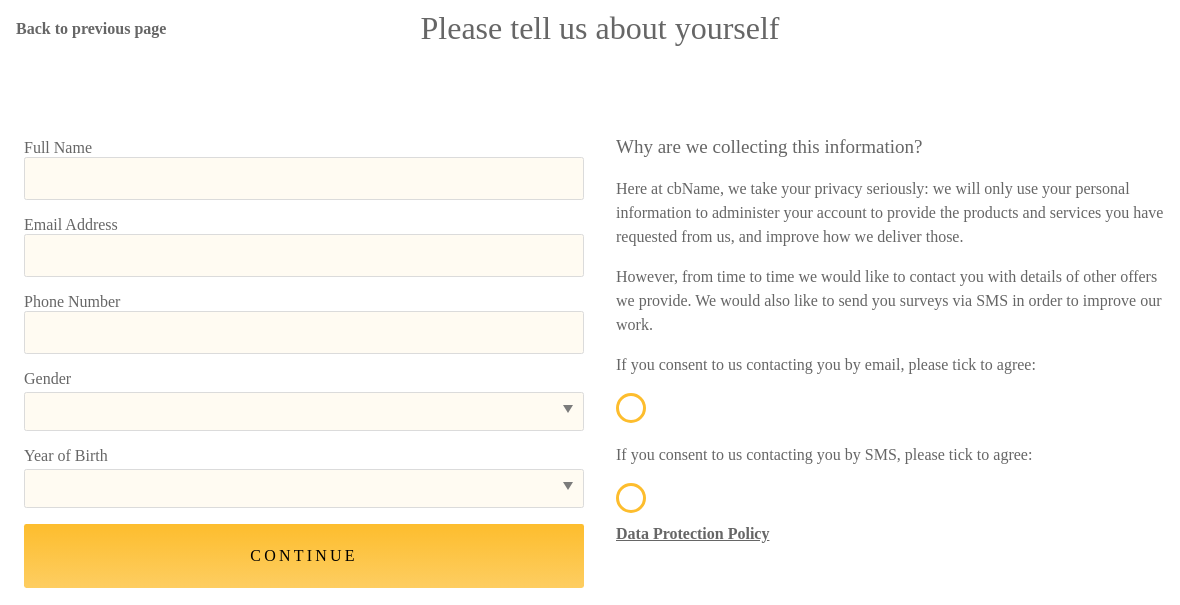
Test: Visitor Registration Component › submit form w/o email or phone number
Type "Sheva Alomar" into the field labelled "Full Name".
click(304, 178); type("Sheva Alomar")  # box [24, 157, 584, 200]
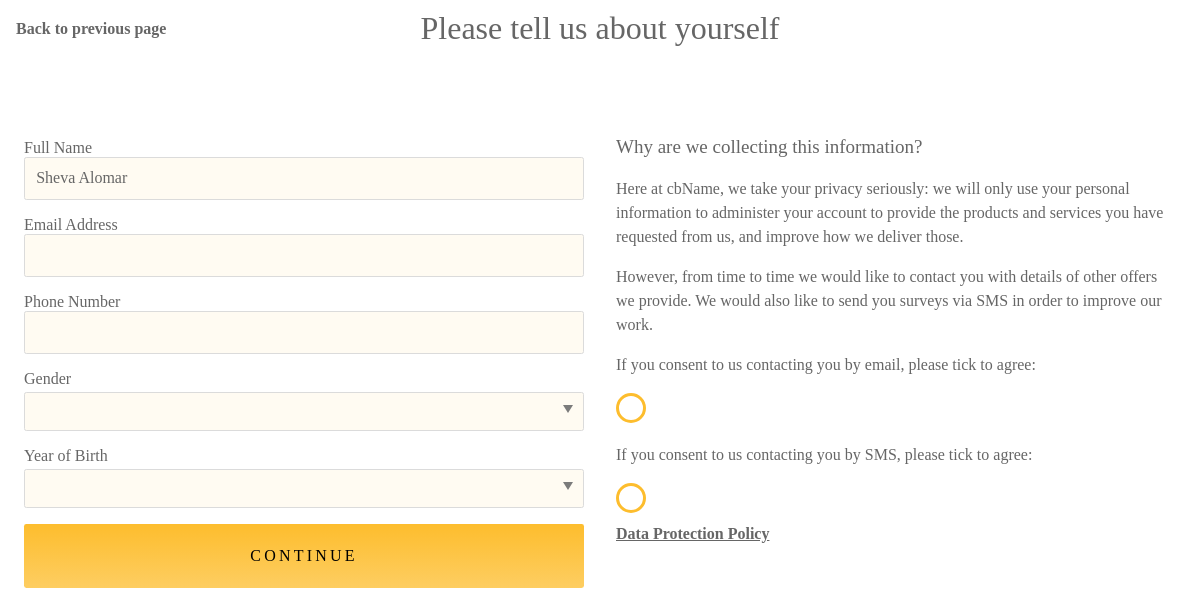
Select "female" in the dropdown labelled "Gender" at (304, 412), box [35, 402, 573, 421]
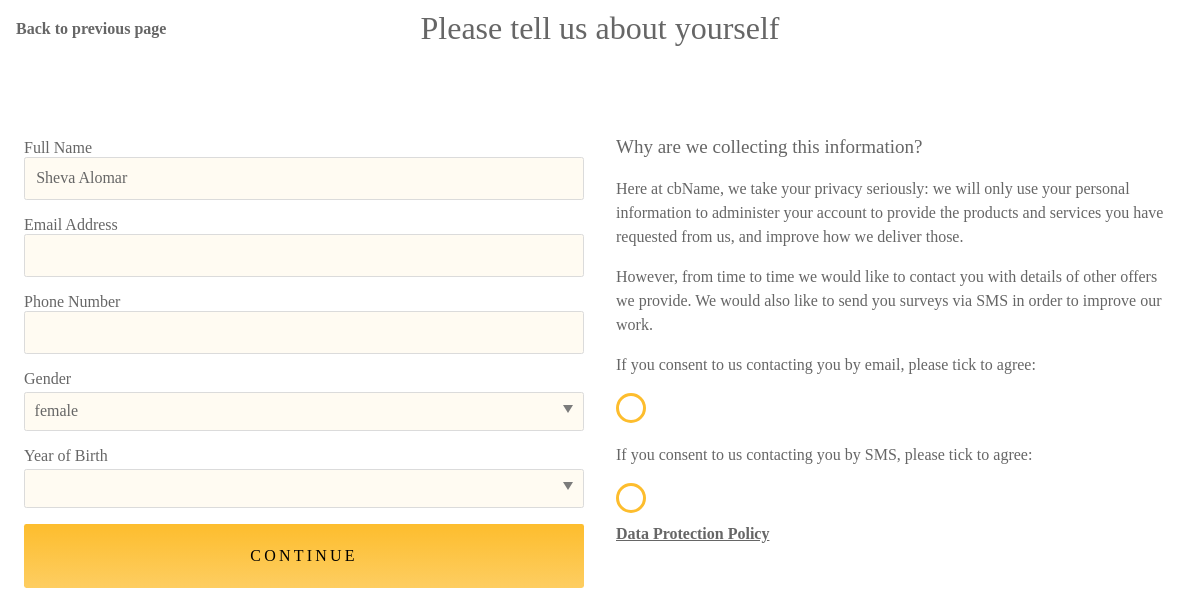
Select "1988" in the dropdown labelled "Year of Birth" at (304, 489), box [35, 480, 573, 498]
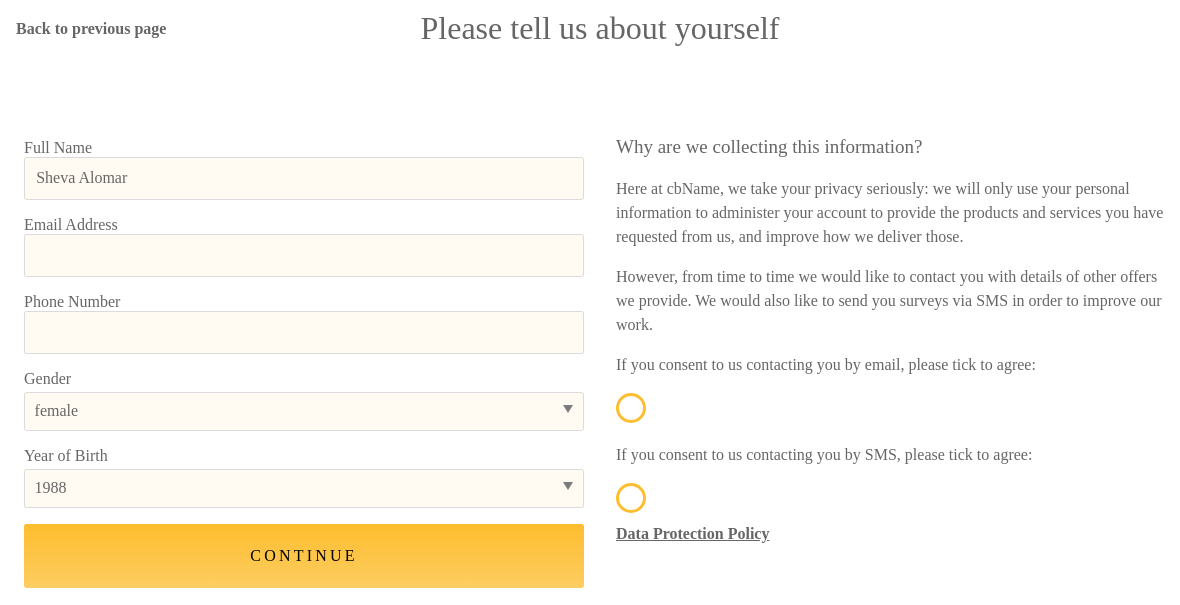
Click the button "CONTINUE".
click(304, 556)  # box [24, 524, 584, 588]
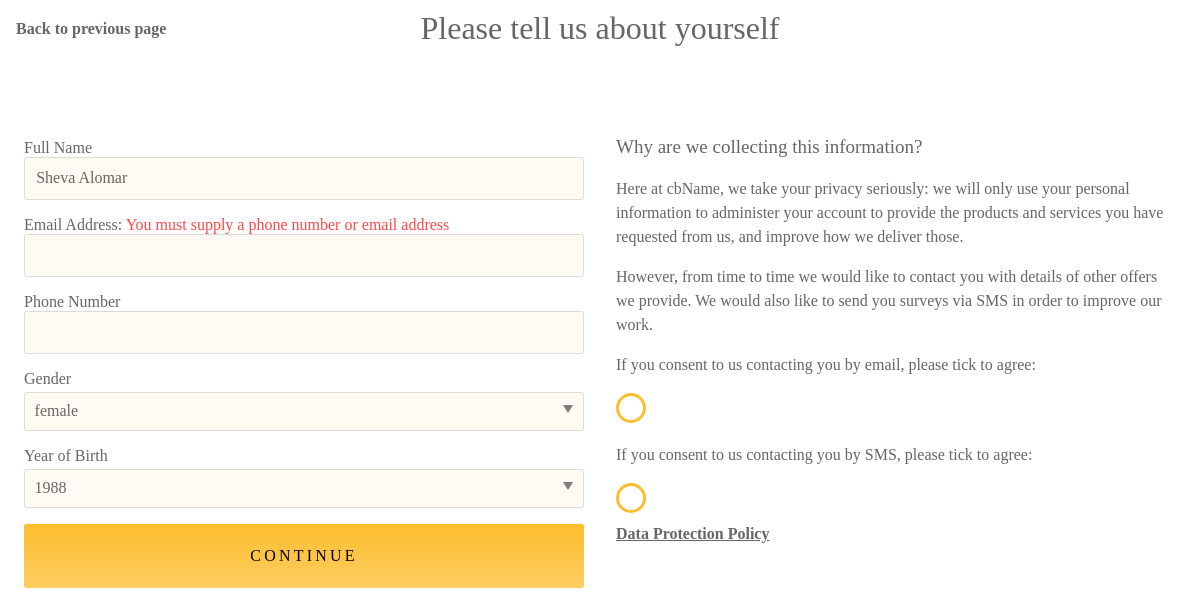
Now the text "supply" reads "You must supply a phone number or email address", box [126, 216, 449, 233]
